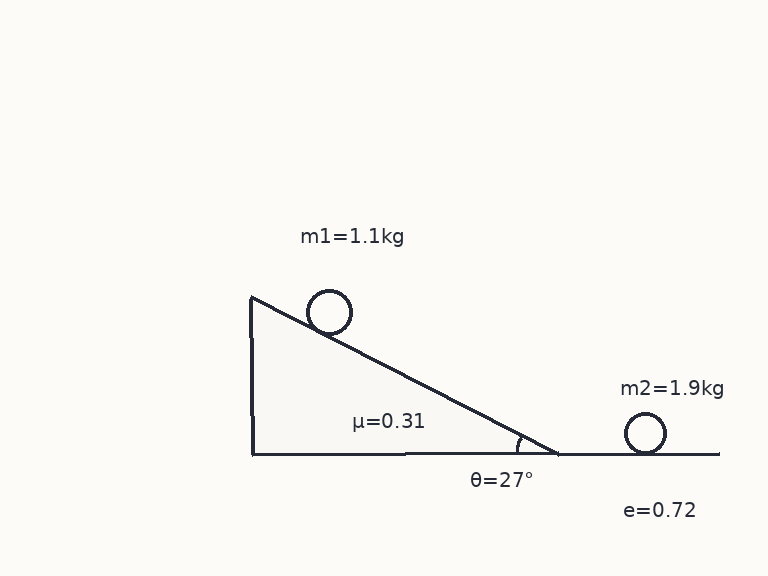ball: (304, 287, 354, 337), (622, 410, 668, 456)
ramp: (249, 296, 559, 456)
